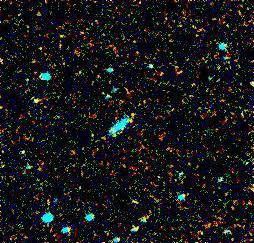star: (119, 104, 149, 134)
